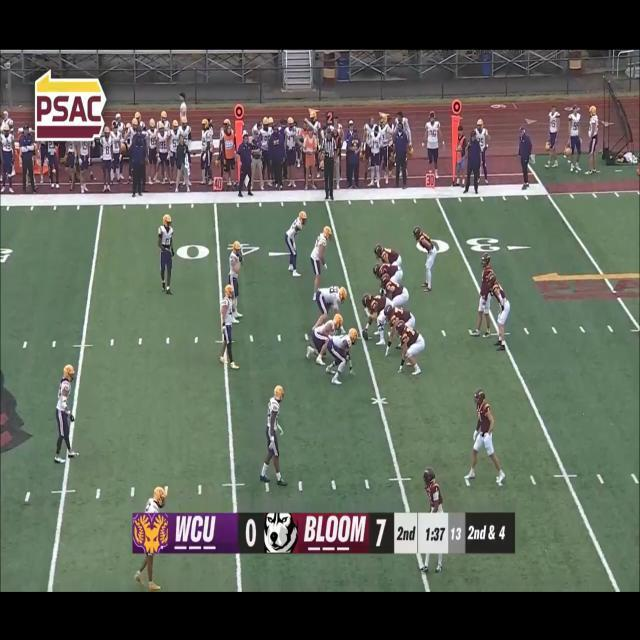football: (362, 328, 369, 341)
